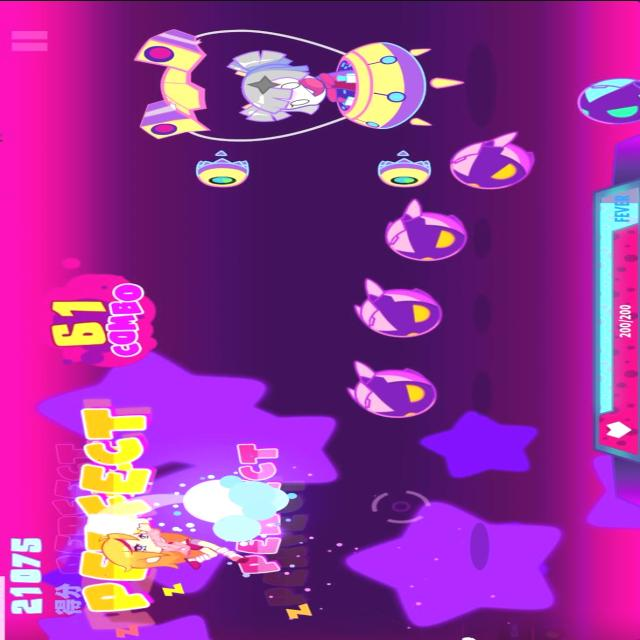jiqiqiu: (376, 196, 472, 266), (354, 275, 446, 339), (446, 128, 542, 188), (345, 359, 437, 420), (570, 70, 640, 124)
qiangboss: (135, 23, 464, 187)
